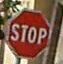stop: (6, 8, 50, 59)
